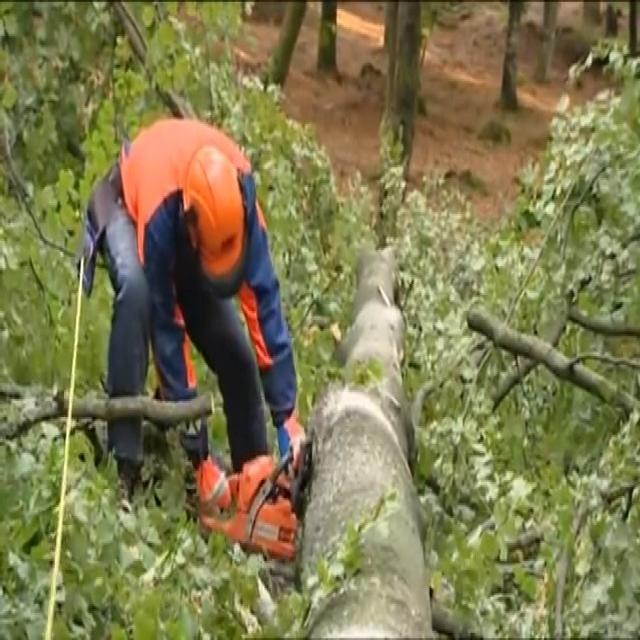Chainsaw: (180, 414, 331, 566)
